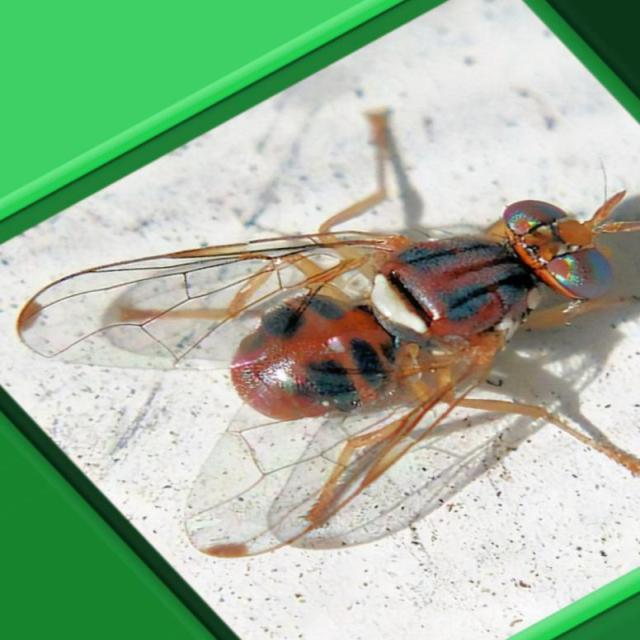Anthracnose: (16, 110, 640, 558)
